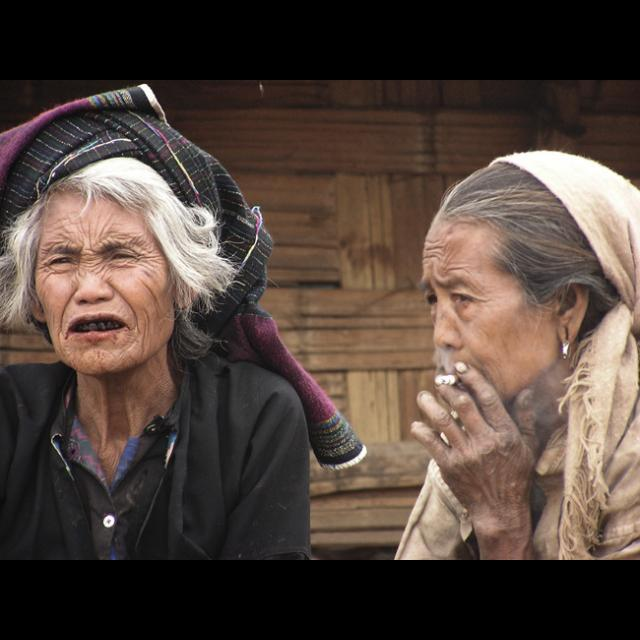rokok: (427, 368, 463, 392)
